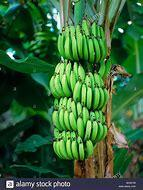banana: (47, 17, 113, 163), (45, 98, 113, 161), (43, 59, 115, 113), (51, 20, 112, 62)
